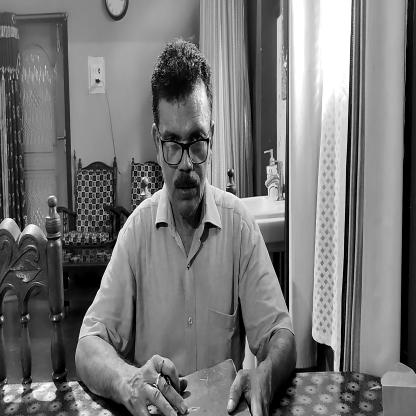Normal: (152, 42, 212, 218)
